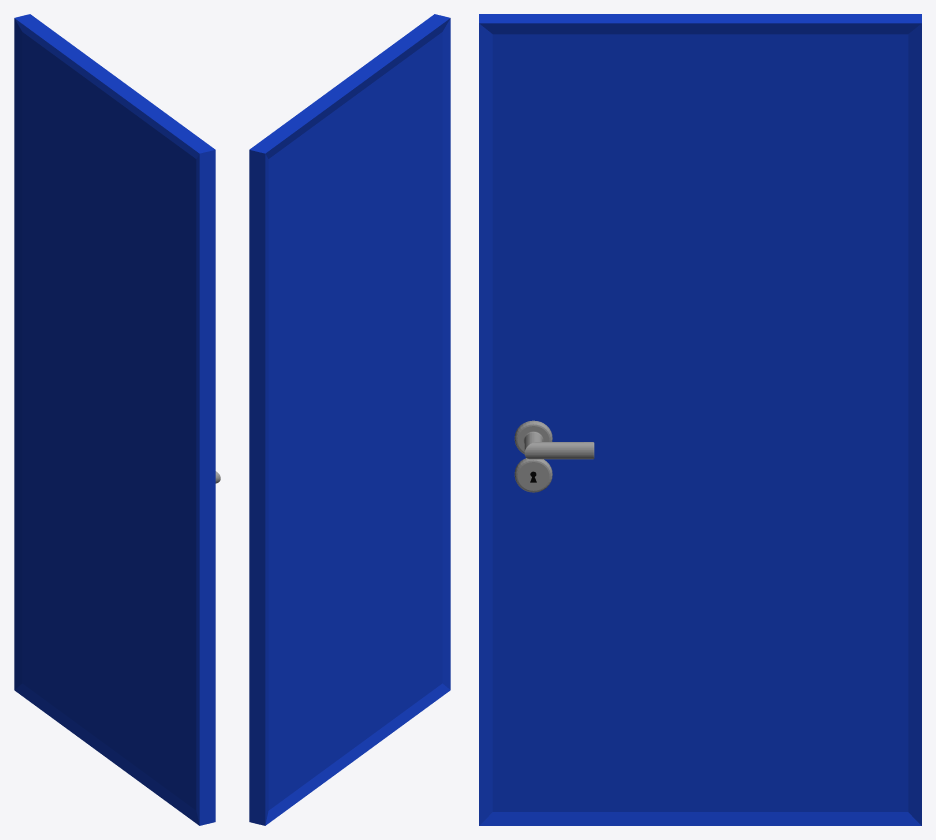
File: deur.glb
The picture shows the model from 3 angles, left to right: view 1: azimuth 30°, elevation 25°; view 2: azimuth 150°, elevation 25°; view 3: azimuth 270°, elevation 25°; orthographic projection. The views are drawn at different scales.
Visible parts, largest first — view 1: door; view 2: door; view 3: door, handle, lock.
Part boxes in pixels (box(x1,y1,x2,y2)): door: box(14, 14, 215, 825); door: box(249, 14, 450, 825); door: box(479, 14, 921, 825); handle: box(514, 420, 594, 459); lock: box(514, 458, 552, 492).
Size of the model in its own units: 0.1252 by 2 by 1.
